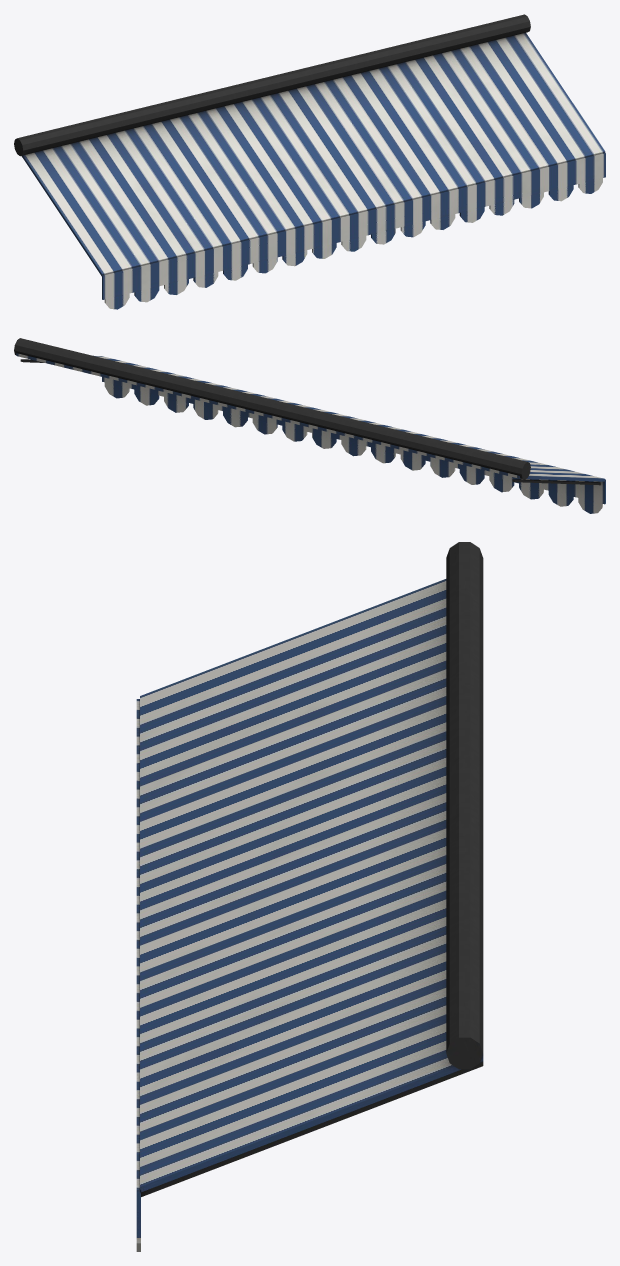
Rendered from awning_44_blue.glb.
3 renders of one model, top to bottom at view 1: azimuth 30°, elevation 25°; view 2: azimuth 150°, elevation 25°; view 3: azimuth 270°, elevation 25°, orthographic. The views are drawn at different scales.
Parts seen in each view (by area): view 1: awning_44_blue; view 2: awning_44_blue; view 3: awning_44_blue.
Part boxes in pixels (<box>): awning_44_blue: <box>14,14,605,309</box>; awning_44_blue: <box>14,338,605,513</box>; awning_44_blue: <box>136,542,483,1251</box>.
Size of the model in its own units: 4.44 by 0.9566 by 1.31.
Materials: 1 (1 with a texture image).
